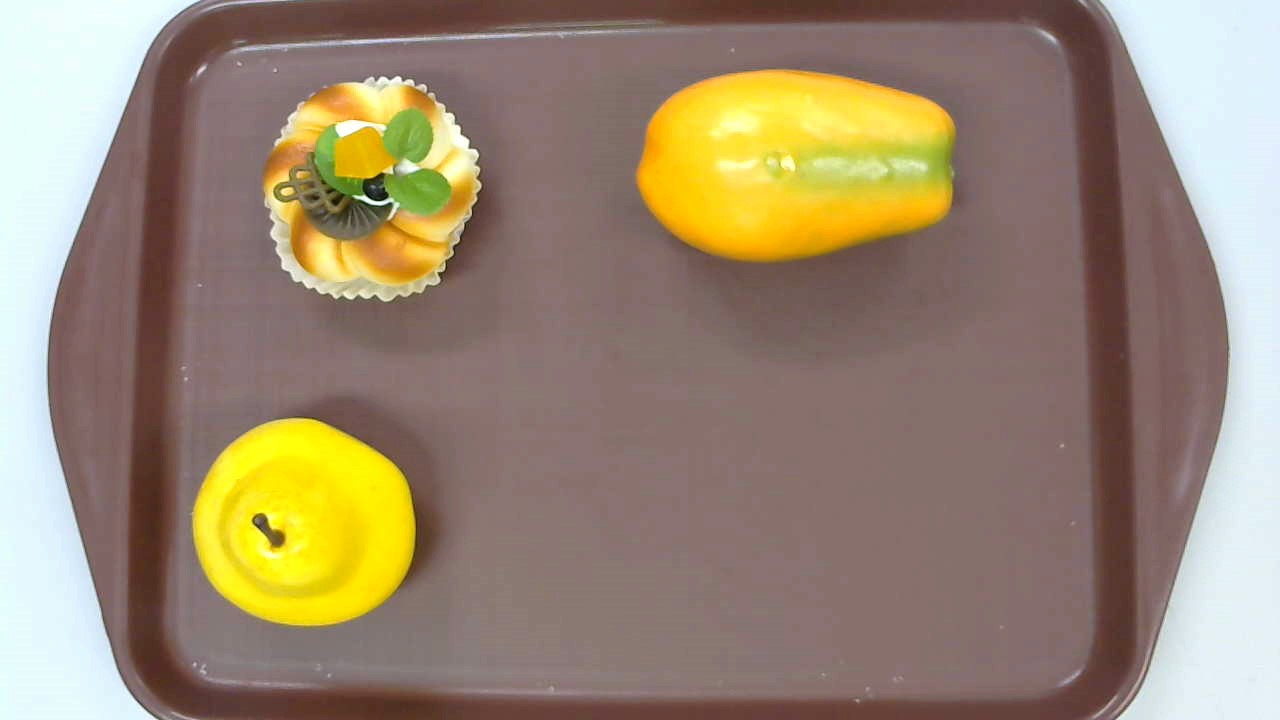fruit tart: (261, 75, 481, 304)
papya: (636, 69, 957, 263)
yellow pear: (192, 416, 416, 628)
